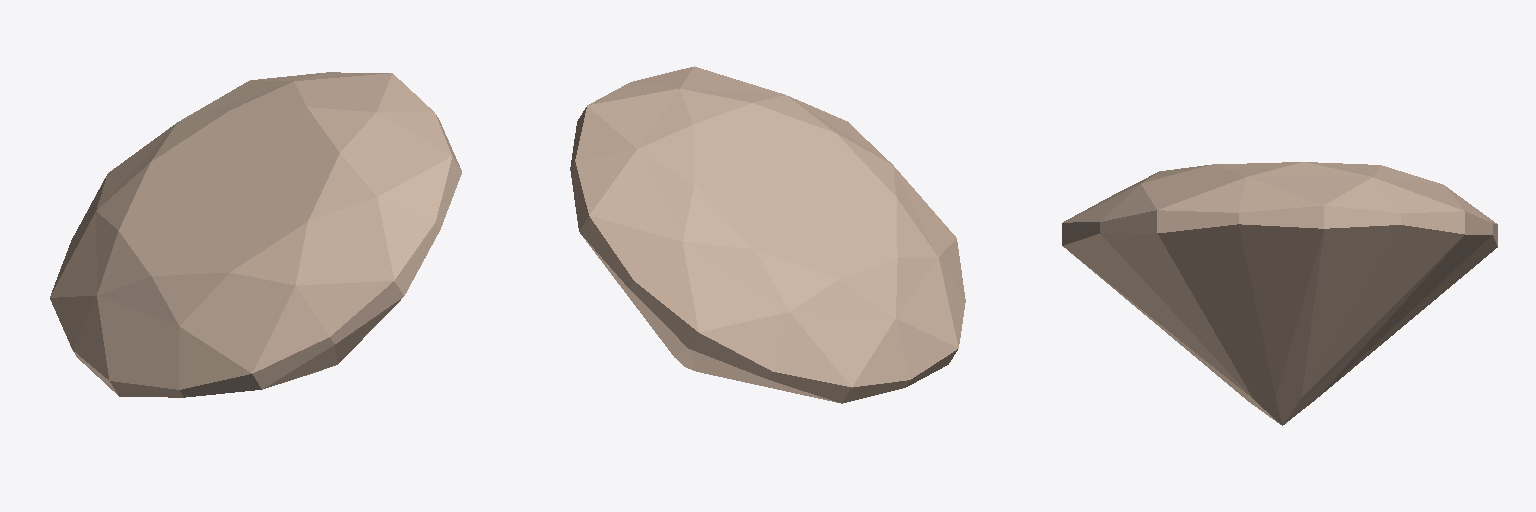
File: Diamond.obj
3 views of the same model, side by side, from view 1: azimuth 30°, elevation 25°; view 2: azimuth 150°, elevation 25°; view 3: azimuth 270°, elevation 25° (orthographic).
Parts seen in each view (by area): view 1: Cylinder; view 2: Cylinder; view 3: Cylinder.
Boxes of the visible parts, box(x1,y1,x2,y2) form: Cylinder: box(50, 72, 461, 397); Cylinder: box(570, 66, 965, 403); Cylinder: box(1062, 162, 1497, 425).
Size of the model in its own units: 40.44 by 29.83 by 45.21.